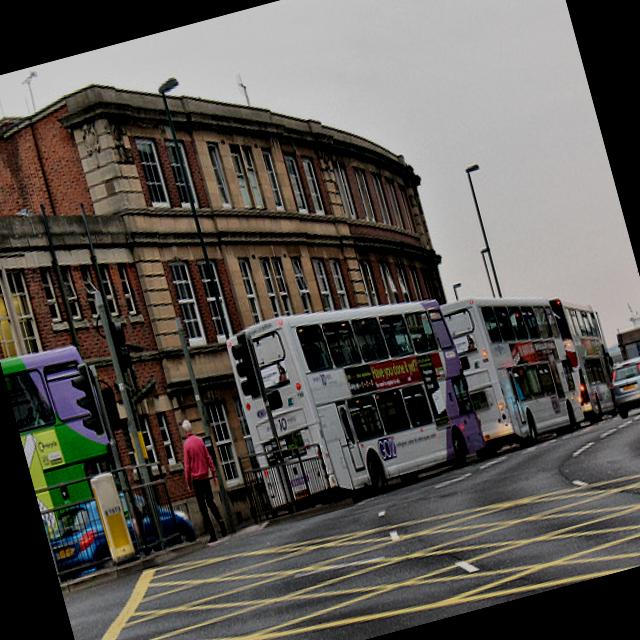Vehicle: (220, 270, 492, 522), (438, 268, 627, 459), (0, 336, 128, 516), (43, 474, 198, 581), (604, 348, 640, 419)
